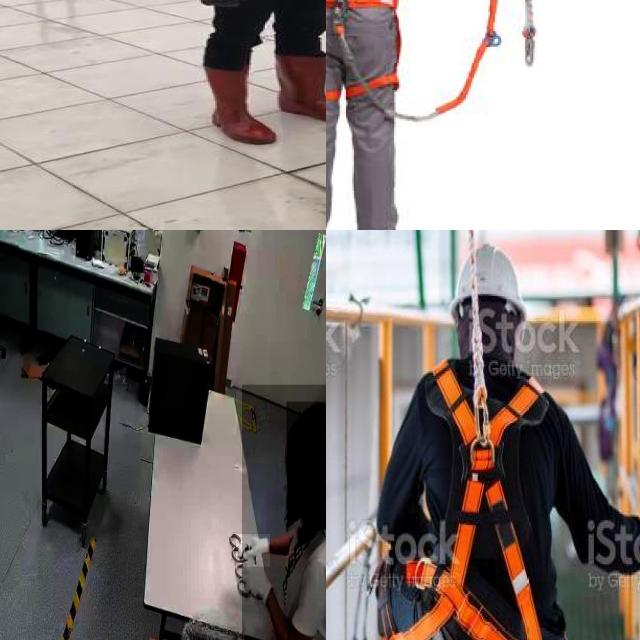Harness: (391, 361, 544, 640), (326, 0, 400, 101)
boots: (190, 59, 281, 150), (269, 53, 326, 127)
hand_glove: (238, 559, 268, 607), (236, 534, 270, 567), (198, 0, 253, 9)
head_nohelmet: (286, 401, 326, 448)
person: (159, 0, 326, 151), (241, 384, 326, 640)
